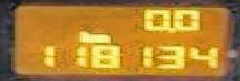-: (166, 26, 173, 31)
0: (168, 7, 199, 30), (139, 7, 168, 30)
1: (37, 43, 55, 67), (68, 44, 86, 66), (135, 44, 153, 66)
3: (153, 44, 184, 68)
4: (186, 44, 217, 68)
8: (86, 43, 121, 68)
X: (73, 29, 91, 43), (91, 32, 111, 42)
